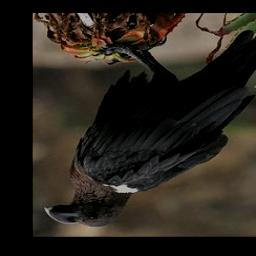Crow: (48, 24, 256, 229)
